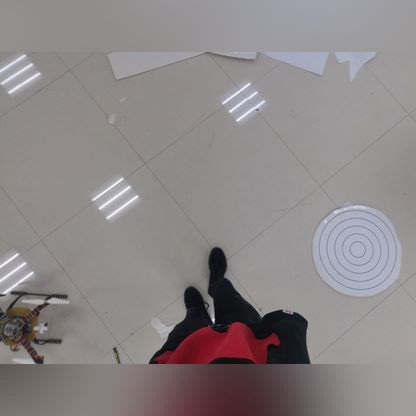W: (312, 203, 416, 302)
